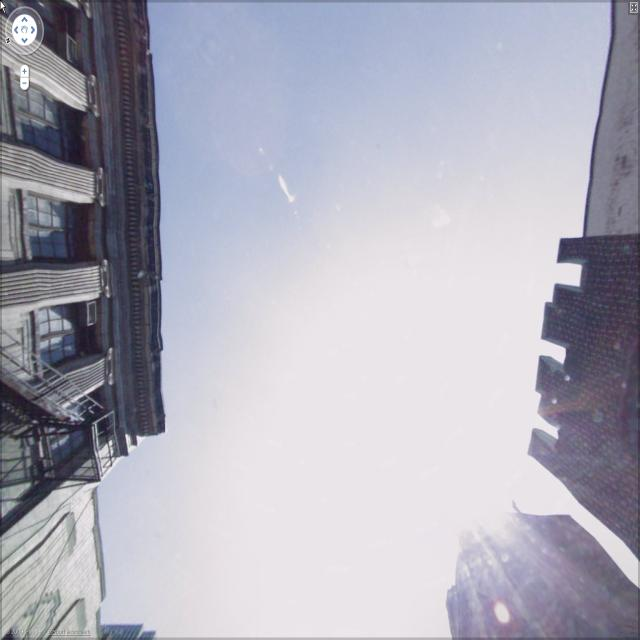b_1: (1, 10, 203, 621), (522, 238, 640, 519), (442, 489, 614, 640), (585, 11, 640, 247)
